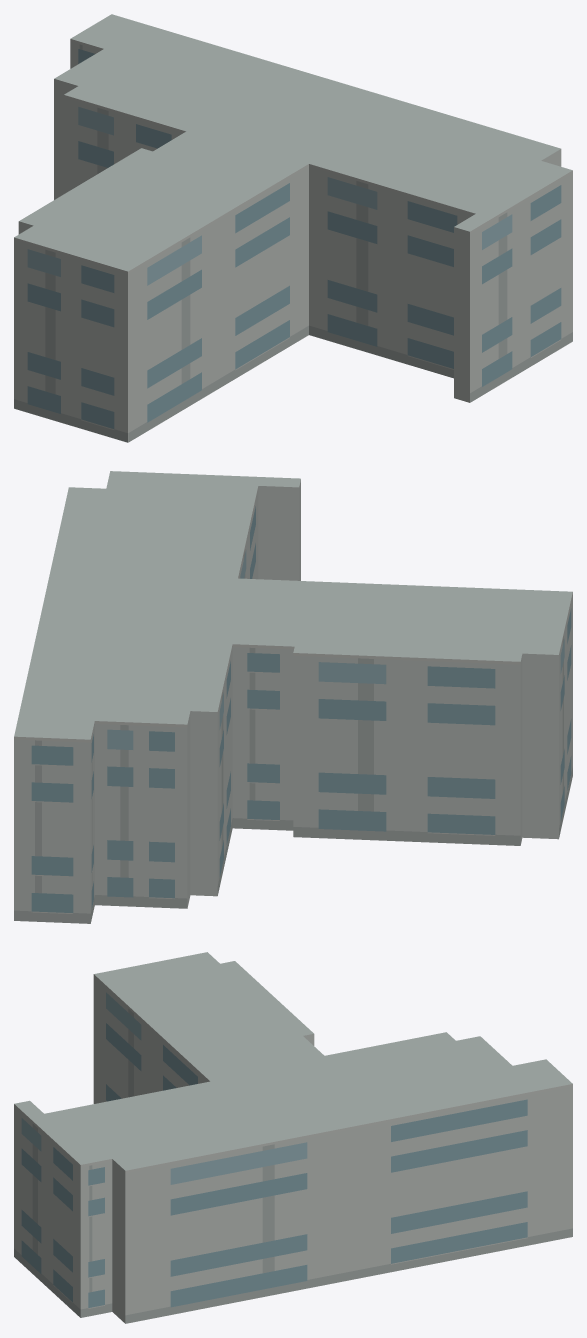
Rendered from residential-1e4f885d-58cf-446e-bc94-031788b2d4e9.glb.
The picture shows the model from 3 angles, top to bottom: view 1: azimuth 30°, elevation 25°; view 2: azimuth 150°, elevation 25°; view 3: azimuth 270°, elevation 25°; orthographic projection. The views are drawn at different scales.
Visible parts, largest first — view 1: residential-1e4f885d-58cf-446e-bc94-031788b2d4e9.tmp; view 2: residential-1e4f885d-58cf-446e-bc94-031788b2d4e9.tmp; view 3: residential-1e4f885d-58cf-446e-bc94-031788b2d4e9.tmp.
Part boxes in pixels (x1,y1,x2,y2): residential-1e4f885d-58cf-446e-bc94-031788b2d4e9.tmp: (14,14,572,442); residential-1e4f885d-58cf-446e-bc94-031788b2d4e9.tmp: (14,471,572,923); residential-1e4f885d-58cf-446e-bc94-031788b2d4e9.tmp: (14,952,572,1323).
Bounding box in the file's own units: 46.75 × 15.25 × 50.47.
